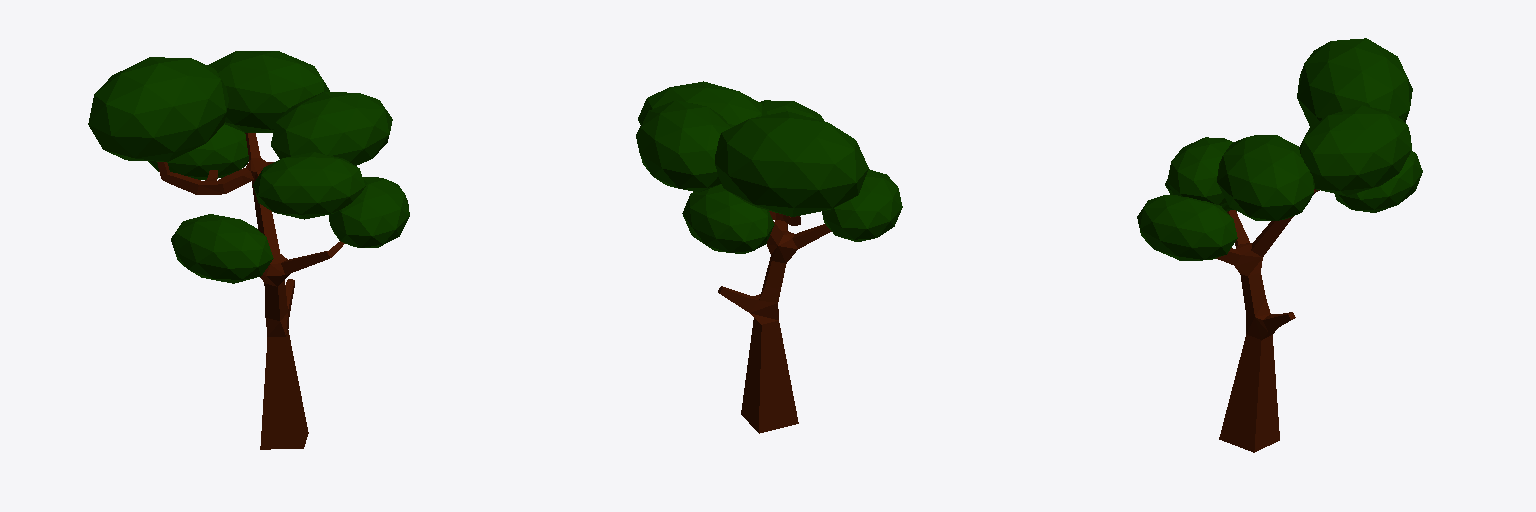
Rendered from tree3.obj.
The picture shows the model from 3 angles: view 1: azimuth 30°, elevation 25°; view 2: azimuth 150°, elevation 25°; view 3: azimuth 270°, elevation 25°; orthographic projection.
Visible parts, largest first — view 1: Icosphere.010_Icosphere.012, tree2.001_Plane.003, Icosphere.009_Icosphere.011, Icosphere.008_Icosphere.010, Icosphere.013_Icosphere.015, Icosphere.012_Icosphere.014, Icosphere.014_Icosphere.016, Icosphere.011_Icosphere.013; view 2: Icosphere.010_Icosphere.012, tree2.001_Plane.003, Icosphere.008_Icosphere.010, Icosphere.011_Icosphere.013, Icosphere.012_Icosphere.014, Icosphere.009_Icosphere.011, Icosphere.013_Icosphere.015; view 3: tree2.001_Plane.003, Icosphere.008_Icosphere.010, Icosphere.010_Icosphere.012, Icosphere.009_Icosphere.011, Icosphere.014_Icosphere.016, Icosphere.013_Icosphere.015, Icosphere.011_Icosphere.013.
Part boxes in pixels (x1,y1,x2,y2): Icosphere.010_Icosphere.012: (88, 57, 228, 161); tree2.001_Plane.003: (157, 133, 344, 449); Icosphere.009_Icosphere.011: (271, 92, 392, 165); Icosphere.008_Icosphere.010: (207, 51, 329, 132); Icosphere.013_Icosphere.015: (253, 152, 365, 219); Icosphere.012_Icosphere.014: (171, 214, 273, 283); Icosphere.014_Icosphere.016: (329, 177, 409, 247); Icosphere.011_Icosphere.013: (148, 124, 248, 179); Icosphere.010_Icosphere.012: (715, 111, 868, 216); tree2.001_Plane.003: (718, 211, 831, 433); Icosphere.008_Icosphere.010: (636, 100, 730, 192); Icosphere.011_Icosphere.013: (682, 184, 774, 253); Icosphere.012_Icosphere.014: (822, 169, 902, 241); Icosphere.009_Icosphere.011: (638, 81, 767, 127); Icosphere.013_Icosphere.015: (760, 100, 824, 121); tree2.001_Plane.003: (1216, 189, 1319, 452); Icosphere.008_Icosphere.010: (1299, 105, 1411, 195); Icosphere.010_Icosphere.012: (1297, 38, 1412, 126); Icosphere.009_Icosphere.011: (1217, 135, 1314, 220); Icosphere.014_Icosphere.016: (1137, 195, 1237, 260); Icosphere.013_Icosphere.015: (1167, 137, 1233, 205); Icosphere.011_Icosphere.013: (1335, 151, 1422, 212).
Bounding box in the file's own units: 31.54 × 42.28 × 30.45.